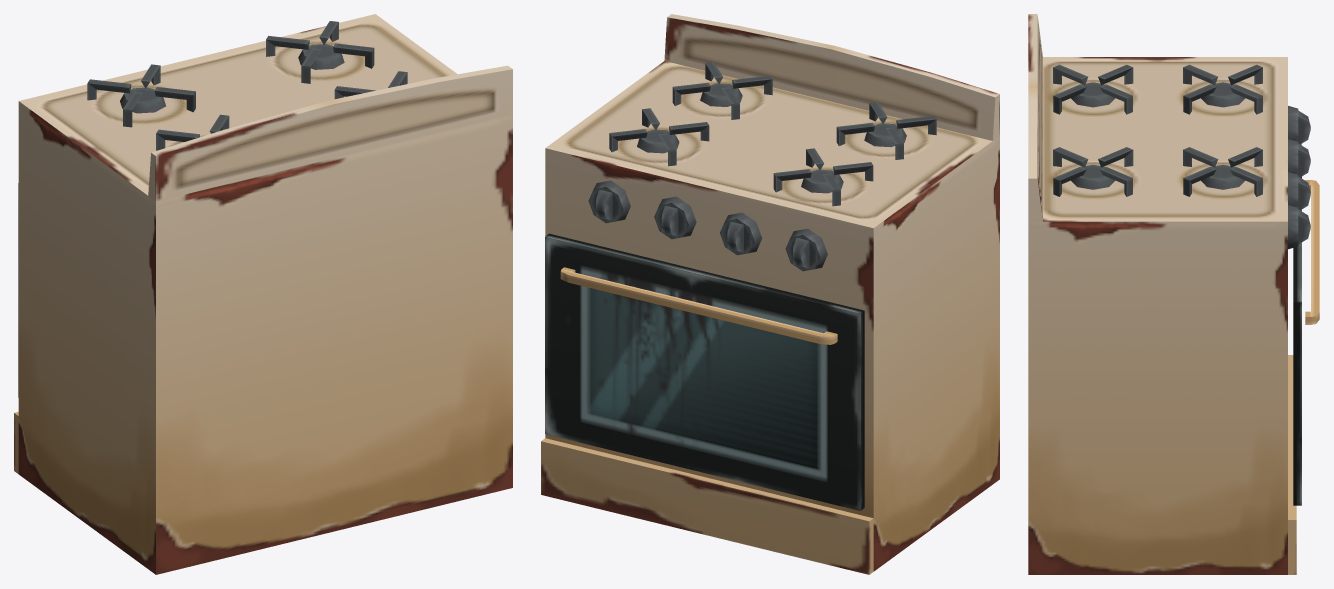
The model's file is KTB0110010.fbx.
3 renders of one model, left to right at view 1: azimuth 30°, elevation 25°; view 2: azimuth 150°, elevation 25°; view 3: azimuth 270°, elevation 25°, orthographic. The views are drawn at different scales.
Parts seen in each view (by area): view 1: smKTB0110010; view 2: smKTB0110010; view 3: smKTB0110010.
Part boxes in pixels (bbox=[...]): smKTB0110010: bbox=[14, 14, 512, 574]; smKTB0110010: bbox=[541, 14, 999, 574]; smKTB0110010: bbox=[1028, 14, 1319, 574].
Bounding box in the file's own units: 90 × 103 × 67.32.
Materials: 1 (1 with a texture image).
